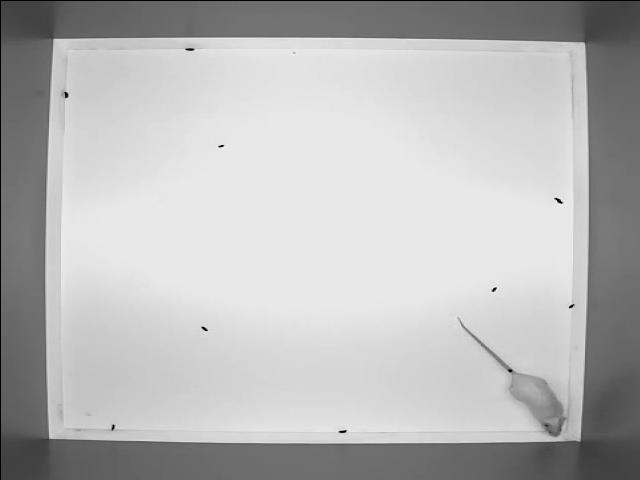Tikus: (454, 316, 566, 440)
